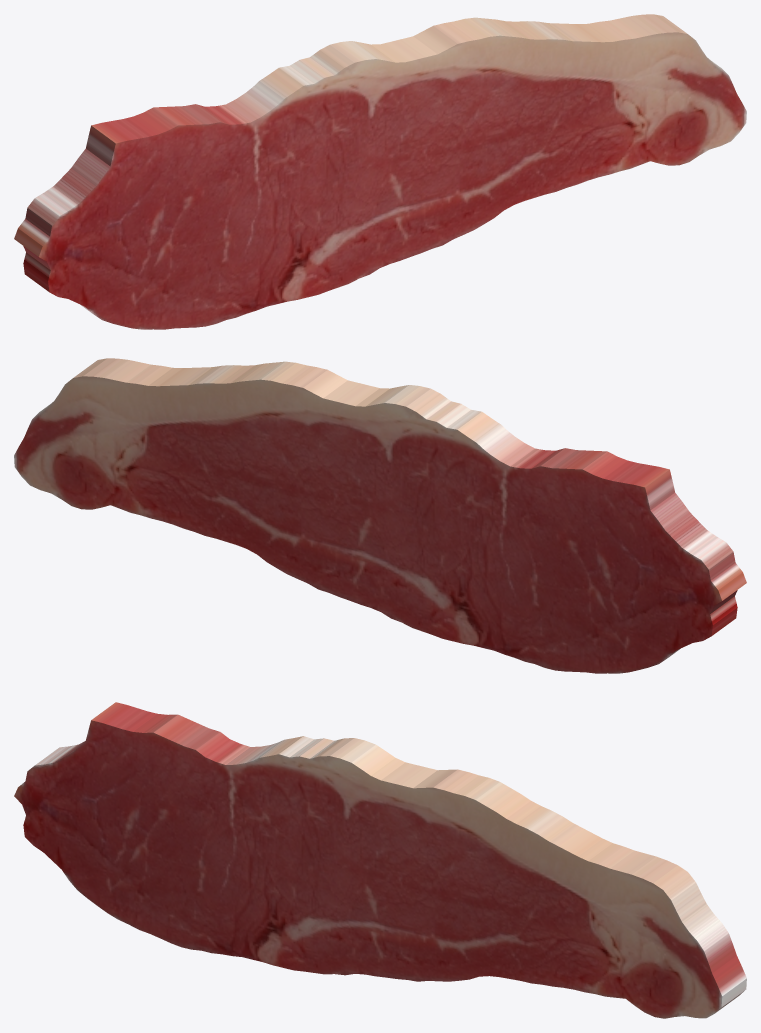
The model's file is pork.fbx.
3 renders of one model, top to bottom at view 1: azimuth 30°, elevation 25°; view 2: azimuth 150°, elevation 25°; view 3: azimuth 330°, elevation 25°, orthographic.
Parts seen in each view (by area): view 1: Object_2; view 2: Object_2; view 3: Object_2.
Part boxes in pixels (x1,y1,x2,y2): Object_2: (14, 14, 746, 329); Object_2: (14, 358, 746, 673); Object_2: (14, 702, 746, 1018).
Bounding box in the file's own units: 170 × 52.19 × 10.28.
